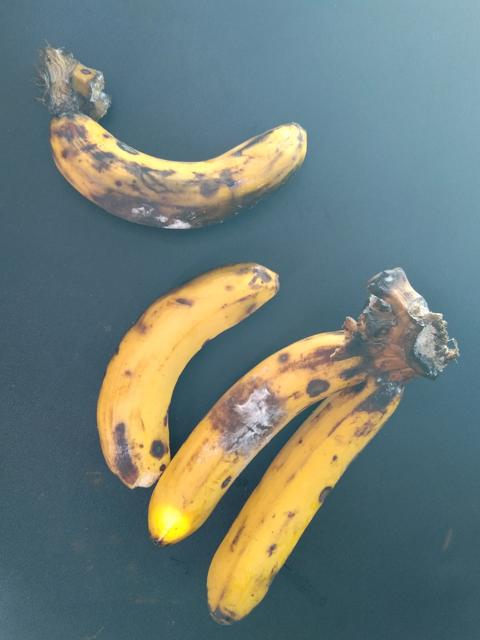overripe: (121, 321, 366, 562), (195, 365, 409, 639), (80, 257, 278, 475)
rotten: (33, 84, 329, 250)
